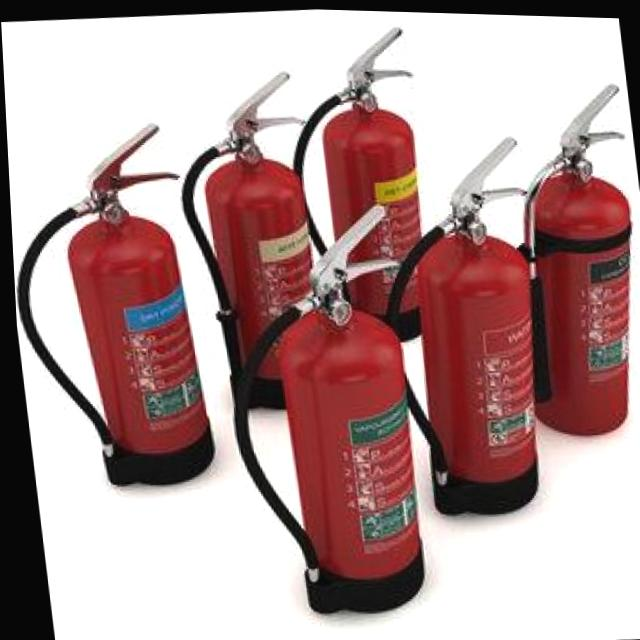FireExtinguisher: (197, 189, 435, 622), (4, 105, 222, 500), (352, 121, 565, 520), (159, 59, 347, 419), (266, 13, 448, 355), (477, 70, 640, 442)
